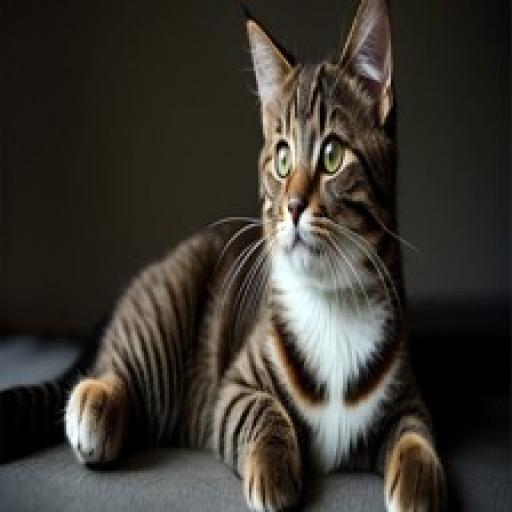cat: (40, 3, 468, 509)
